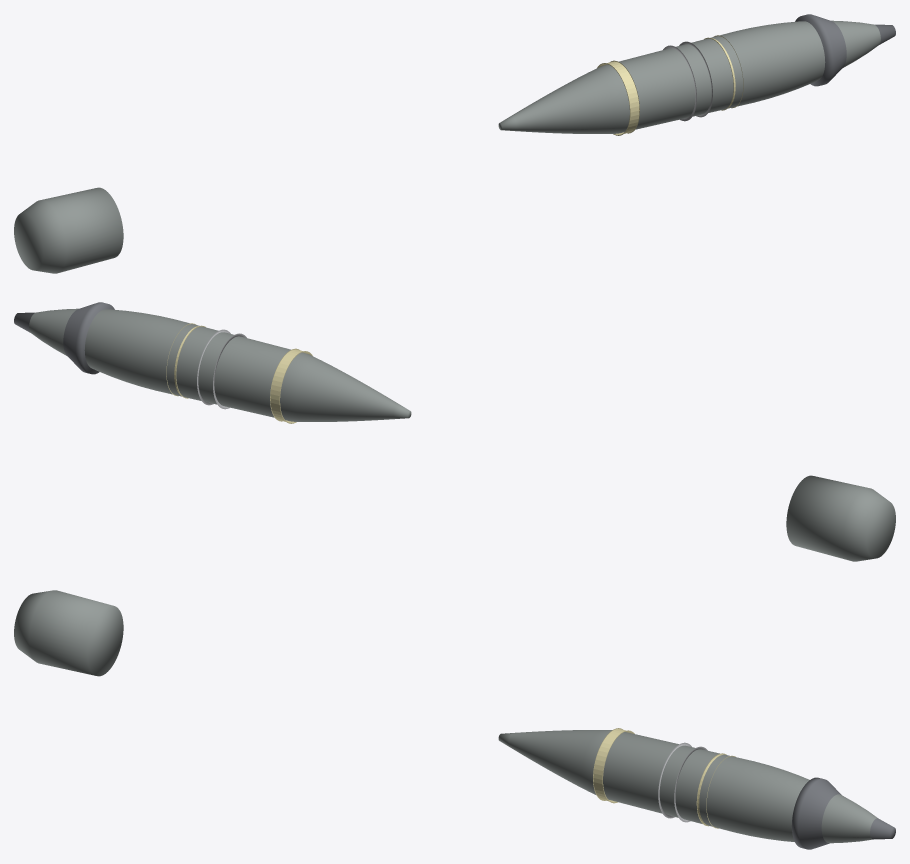
Rendered from IN_SLBM_K15_LOD0.fbx.
The picture shows the model from 3 angles, top to bottom: view 1: azimuth 30°, elevation 25°; view 2: azimuth 150°, elevation 25°; view 3: azimuth 330°, elevation 25°; orthographic projection.
Parts seen in each view (by area): view 1: WPN_IN_SLBM_K15_LOD0_Body, WPN_IN_SLBM_K15_LOD0_Tail, WPN_IN_SLBM_K15_LOD0_Nose, WPN_IN_SLBM_K15_LOD0_Marking; view 2: WPN_IN_SLBM_K15_LOD0_Body, WPN_IN_SLBM_K15_LOD0_Tail, WPN_IN_SLBM_K15_LOD0_Nose, WPN_IN_SLBM_K15_LOD0_Marking; view 3: WPN_IN_SLBM_K15_LOD0_Body, WPN_IN_SLBM_K15_LOD0_Tail, WPN_IN_SLBM_K15_LOD0_Nose, WPN_IN_SLBM_K15_LOD0_Marking.
Boxes of the visible parts, x1,y1,x2,y2 form: WPN_IN_SLBM_K15_LOD0_Body: (498,20,880,133); WPN_IN_SLBM_K15_LOD0_Tail: (14,187,123,273); WPN_IN_SLBM_K15_LOD0_Nose: (795,14,895,86); WPN_IN_SLBM_K15_LOD0_Marking: (597,35,743,135); WPN_IN_SLBM_K15_LOD0_Body: (29,308,411,421); WPN_IN_SLBM_K15_LOD0_Tail: (786,475,895,561); WPN_IN_SLBM_K15_LOD0_Nose: (14,302,114,374); WPN_IN_SLBM_K15_LOD0_Marking: (166,323,312,423); WPN_IN_SLBM_K15_LOD0_Body: (498,730,877,843); WPN_IN_SLBM_K15_LOD0_Tail: (14,590,123,676); WPN_IN_SLBM_K15_LOD0_Nose: (791,777,895,849); WPN_IN_SLBM_K15_LOD0_Marking: (593,728,735,828).
Bounding box in the file's own units: 10 × 0.777 × 0.777.
